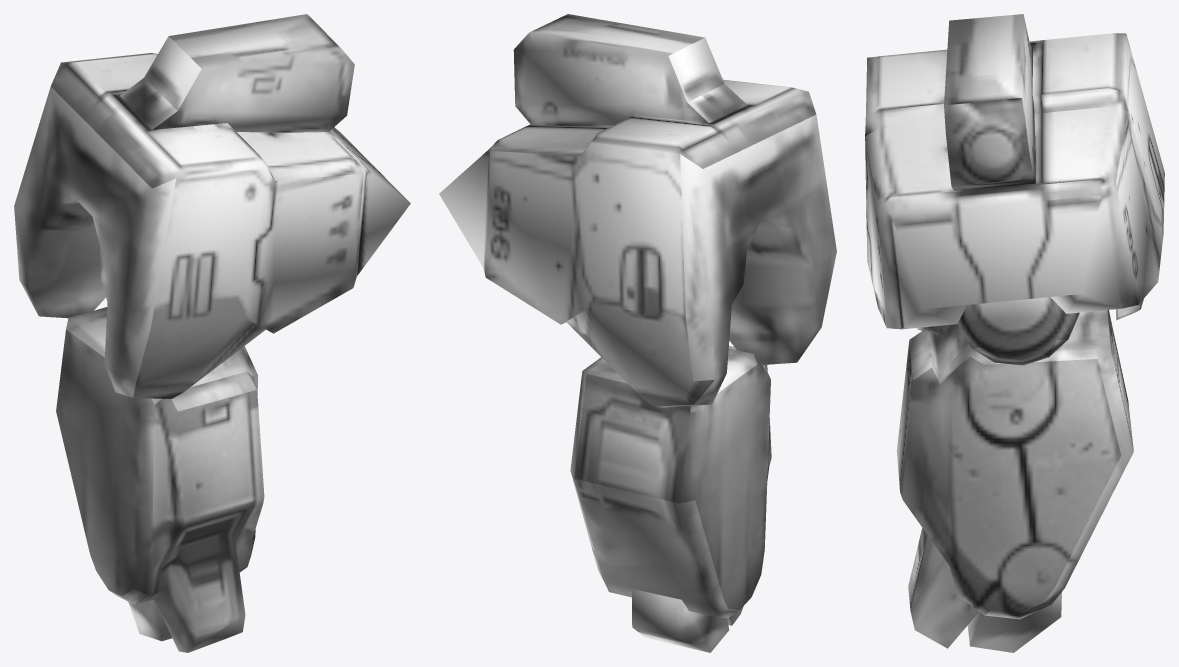
The model's file is l_upper.glb.
The picture shows the model from 3 angles, left to right: view 1: azimuth 30°, elevation 25°; view 2: azimuth 150°, elevation 25°; view 3: azimuth 270°, elevation 25°; orthographic projection. The views are drawn at different scales.
Visible parts, largest first — view 1: l_upper; view 2: l_upper; view 3: l_upper.
Boxes of the visible parts, bbox=[...] form: l_upper: bbox=[14, 14, 410, 652]; l_upper: bbox=[439, 14, 836, 652]; l_upper: bbox=[865, 14, 1164, 652].
Size of the model in its own units: 0.5044 by 0.9347 by 0.4061.
Materials: 3 (3 with a texture image).
